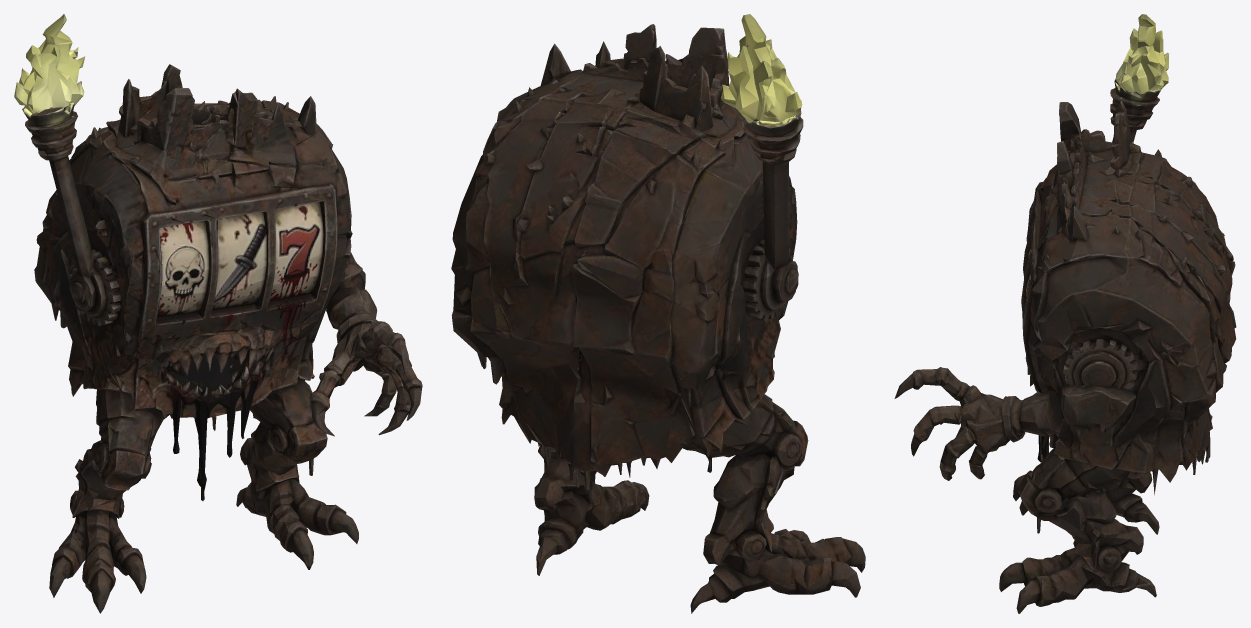
Rendered from bandit.glb.
3 renders of one model, left to right at view 1: azimuth 30°, elevation 25°; view 2: azimuth 150°, elevation 25°; view 3: azimuth 270°, elevation 25°, orthographic. The views are drawn at different scales.
Parts seen in each view (by area): view 1: Mesh_0; view 2: Mesh_0; view 3: Mesh_0.
Boxes of the visible parts, x1=… form: Mesh_0: x1=14, y1=14, x2=422, y2=613; Mesh_0: x1=451, y1=14, x2=865, y2=613; Mesh_0: x1=894, y1=14, x2=1236, y2=613.
Bounding box in the file's own units: 1.18 × 1.9 × 1.17.
1 material, 1 textured.
